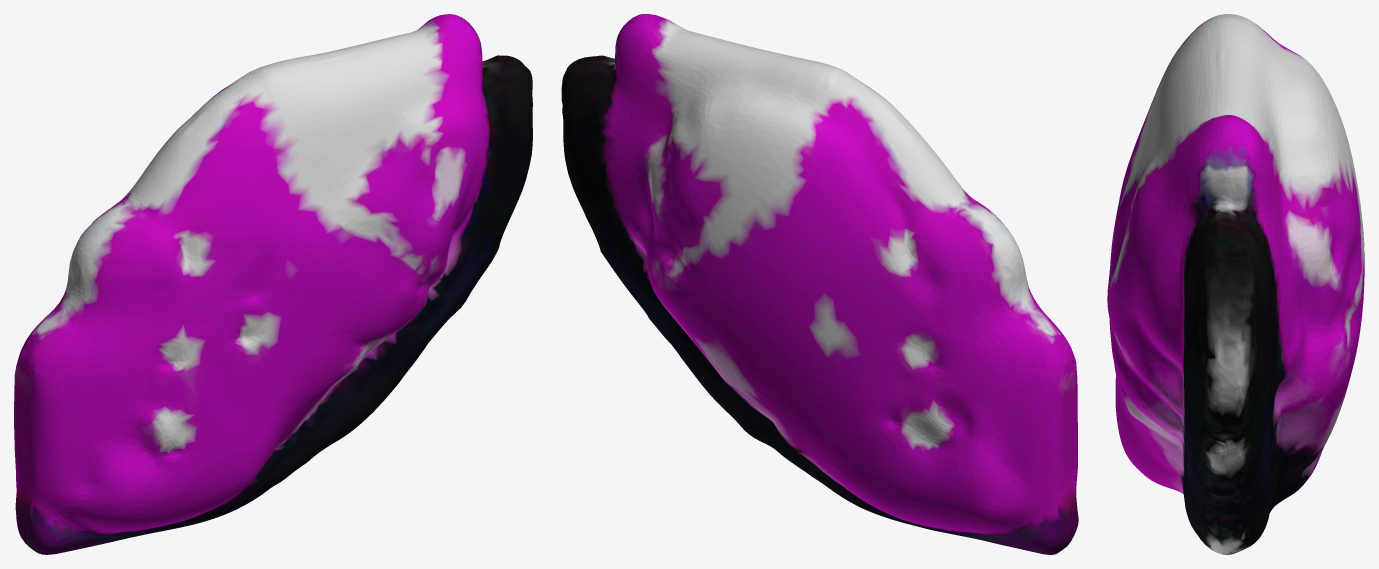
Rendered from amethyst_exceptional.glb.
3 views of the same model, side by side, from view 1: azimuth 30°, elevation 25°; view 2: azimuth 150°, elevation 25°; view 3: azimuth 270°, elevation 25° (orthographic). The views are drawn at different scales.
Parts seen in each view (by area): view 1: geometry_0; view 2: geometry_0; view 3: geometry_0.
Part boxes in pixels (x1=…): geometry_0: x1=14, y1=14, x2=532, y2=554; geometry_0: x1=561, y1=14, x2=1078, y2=554; geometry_0: x1=1107, y1=14, x2=1364, y2=554.
Size of the model in its own units: 0.5938 by 0.4991 by 0.2054.
